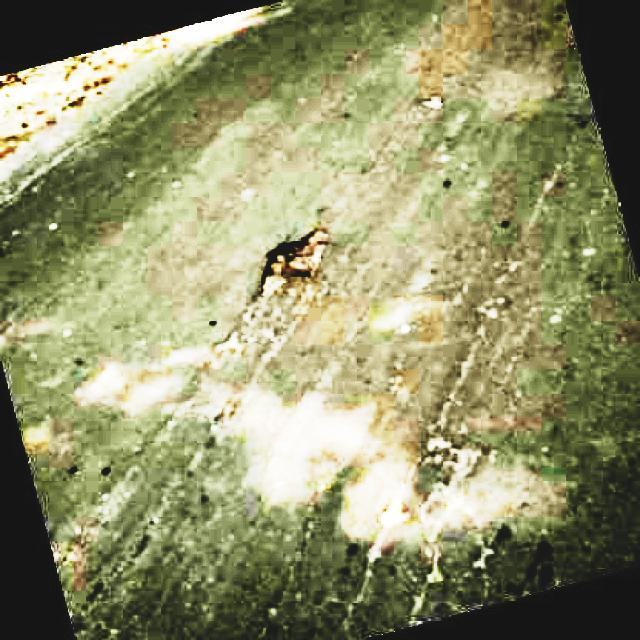pothole: (254, 226, 329, 303)
